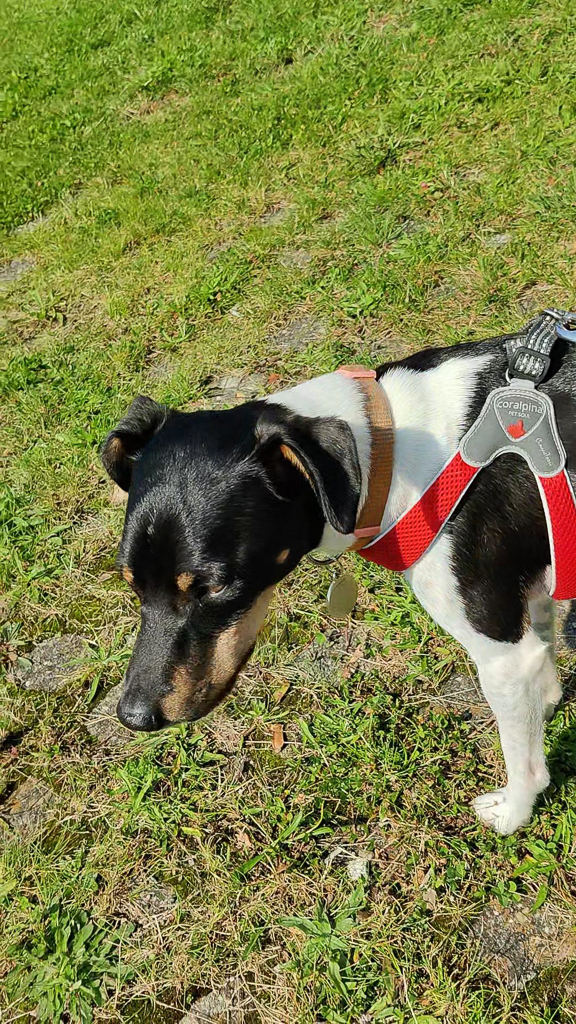Dog: (74, 281, 576, 845)
